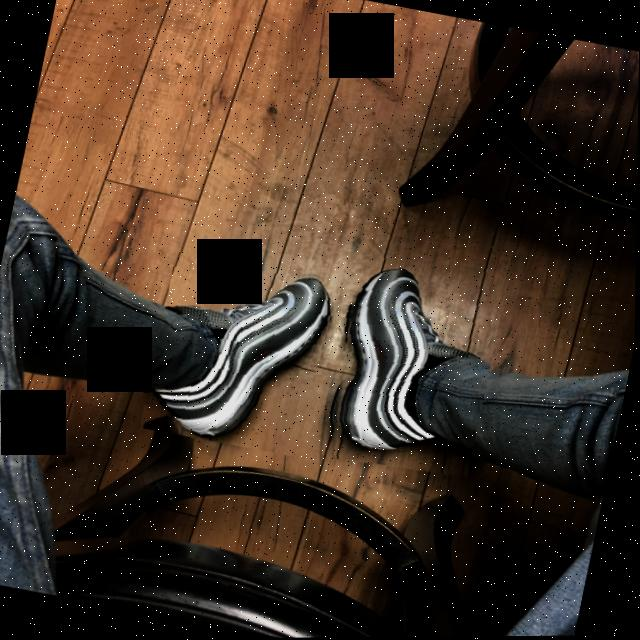shoe: (318, 245, 511, 484), (141, 243, 344, 460)
